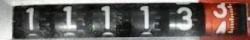digits: (175, 6, 193, 29), (100, 5, 111, 30), (140, 6, 151, 30), (212, 2, 228, 18), (26, 6, 36, 30), (62, 6, 71, 30)
